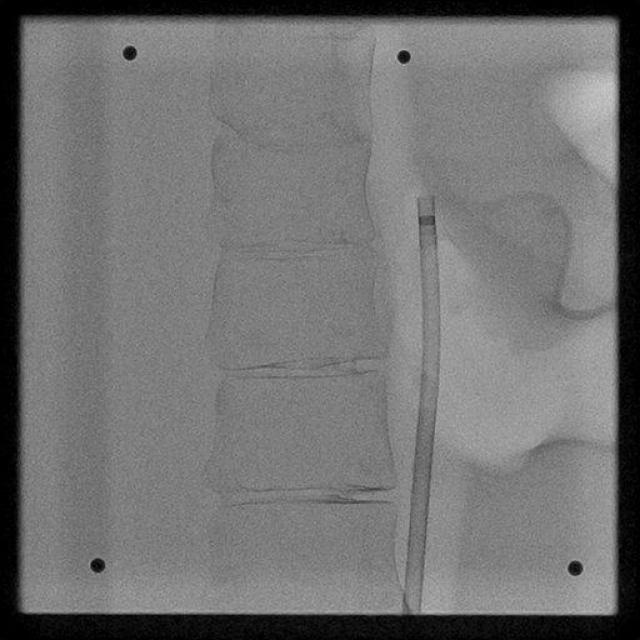bend: (421, 395, 437, 413)
entry: (403, 606, 421, 613)
marker: (418, 214, 437, 226)
tip: (416, 194, 435, 201)
